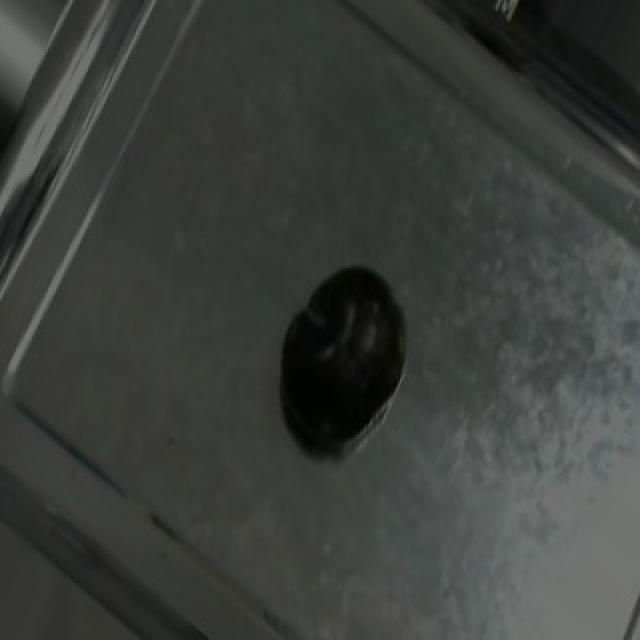Fruit: (264, 248, 416, 456)
